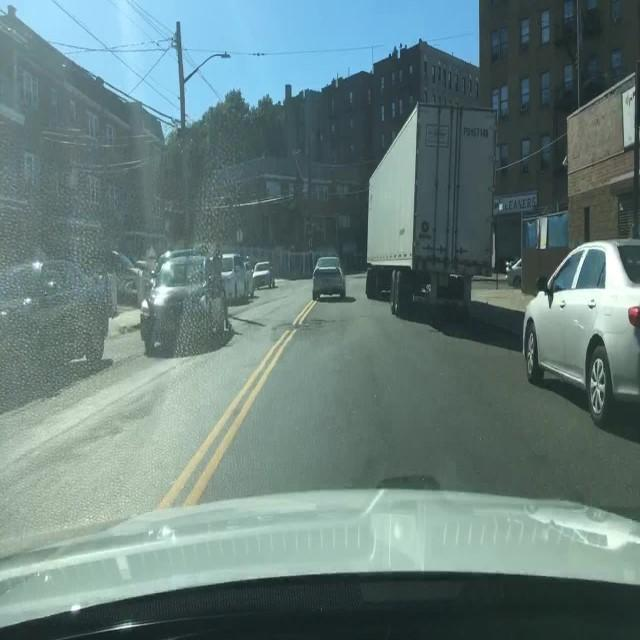normal: (354, 87, 506, 327), (523, 200, 640, 439), (118, 245, 249, 362), (307, 249, 354, 302)
